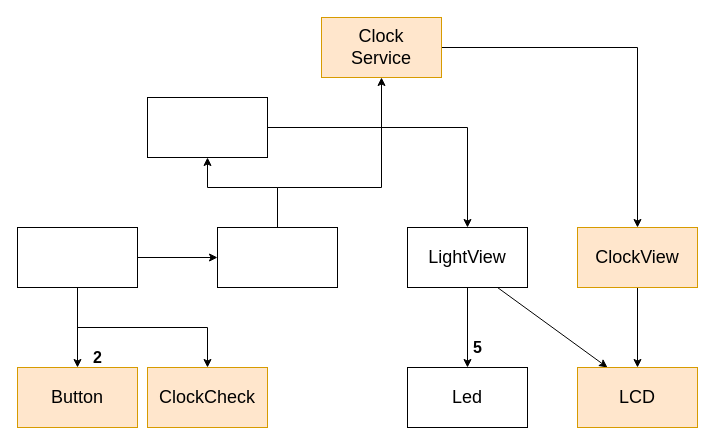
Some shapes in this 715 by 445 pixel diagram are drawn without their labels. Each missing label, with the centre of its shape:
Controller: point (277, 257)
Listener: point (77, 257)
StandLight Service: point (207, 127)
